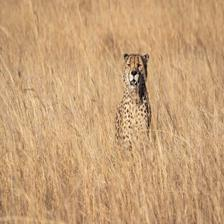Cheetah: (112, 53, 156, 176)
